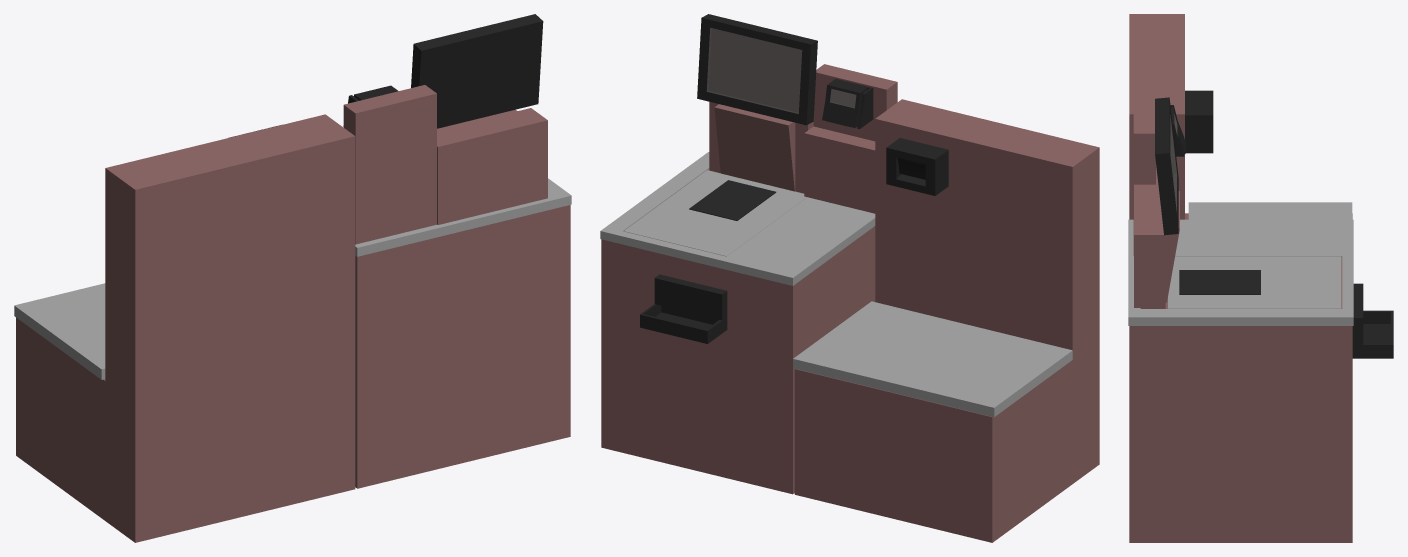
Rendered from self_checkout_clean.fbx.
The picture shows the model from 3 angles, left to right: view 1: azimuth 30°, elevation 25°; view 2: azimuth 150°, elevation 25°; view 3: azimuth 270°, elevation 25°; orthographic projection. The views are drawn at different scales.
Visible parts, largest first — view 1: polySurface16; view 2: polySurface16; view 3: polySurface16.
Part boxes in pixels (x1,y1,x2,y2): polySurface16: [14, 14, 571, 542]; polySurface16: [600, 14, 1099, 542]; polySurface16: [1128, 14, 1393, 542].
Bounding box in the file's own units: 5.8 × 5.19 × 3.25.
